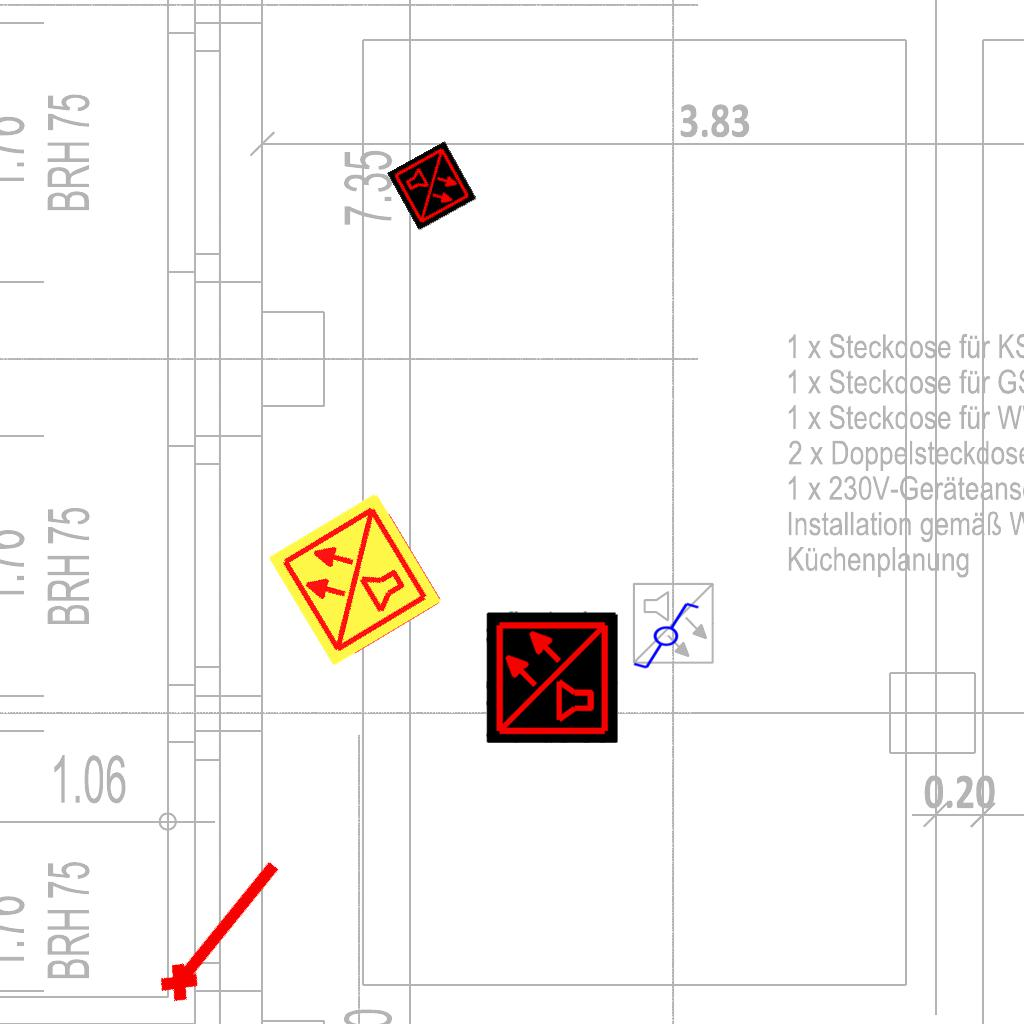ASR_Ansaugoeffnung: (146, 845, 294, 1011)
OKW_Multisensormelder_(Kombination_optischer_Rauch-Kahlenmonoxid_Waerme-Melder): (264, 488, 446, 670), (486, 611, 618, 743), (387, 141, 477, 231)
Wechselschalter: (623, 599, 701, 671)
